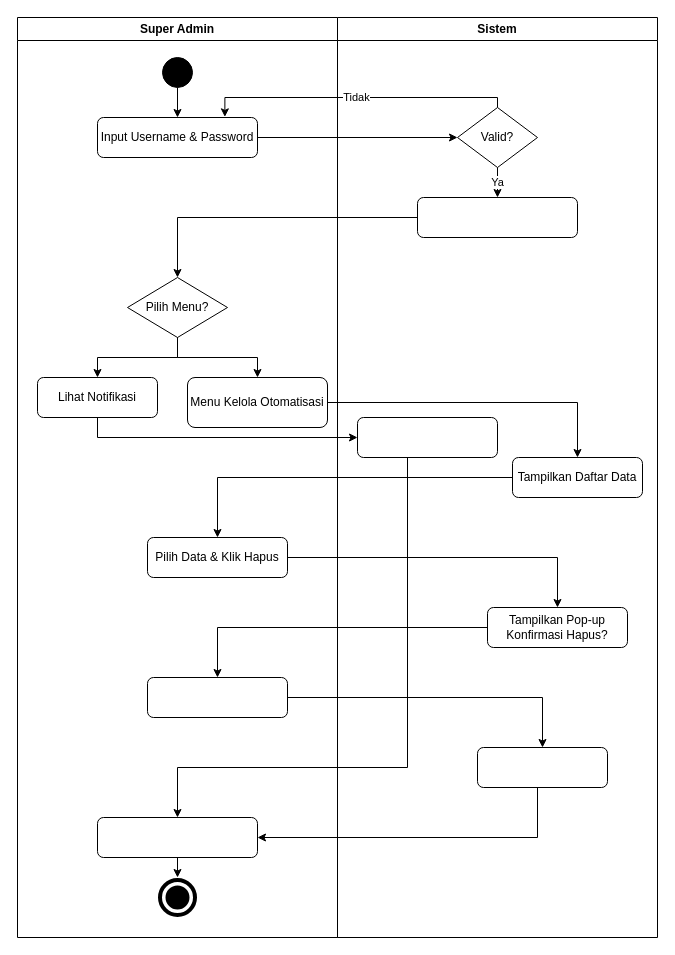
Some shapes in this 675 by 955 pixel diagram are drawn without their labels. The box of each missing label's shape, as (x1, y1, x2, y2) in pixels:
Hapus Data dari DB: (476, 746, 608, 788)
Konfirmasi: Ya: (146, 676, 288, 718)
Logout: (96, 816, 258, 858)
Tampilkan Dashboard: (416, 196, 578, 238)
Tampilkan Data Notifikasi: (356, 416, 498, 458)
